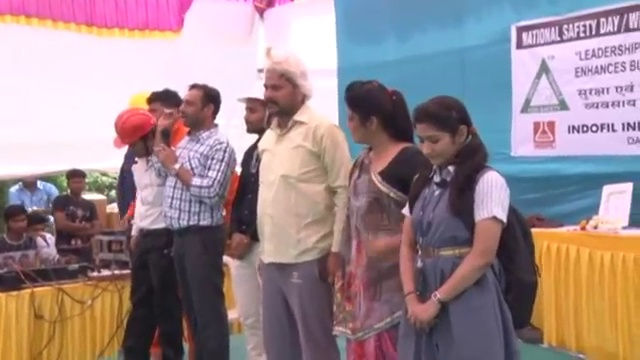helmet: (112, 104, 156, 149), (236, 79, 266, 104)
helmet_off: (411, 92, 482, 176), (340, 76, 409, 162), (258, 58, 314, 118), (176, 84, 221, 137), (145, 88, 184, 130), (3, 205, 29, 244), (65, 169, 87, 197), (27, 213, 51, 237)
helmet_on: (111, 103, 158, 163), (236, 78, 266, 135)
person: (396, 80, 534, 358), (252, 55, 353, 360), (334, 66, 425, 360), (157, 88, 242, 360), (113, 103, 186, 360), (222, 79, 265, 360), (0, 203, 76, 266), (52, 169, 101, 257), (7, 178, 58, 212)
